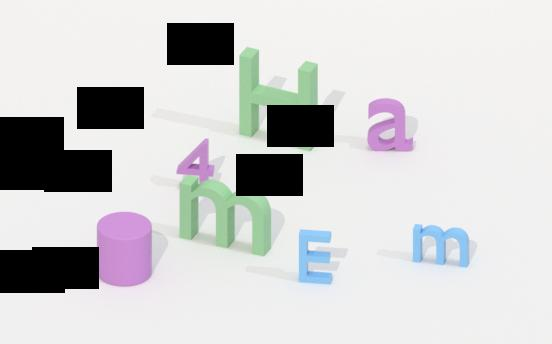4: (174, 137, 216, 186)
E-hoa: (295, 227, 337, 286)
H-hoa: (235, 40, 320, 157)
a: (365, 96, 416, 156)
m: (175, 175, 273, 258), (410, 218, 472, 270)
tru: (94, 208, 155, 289)
